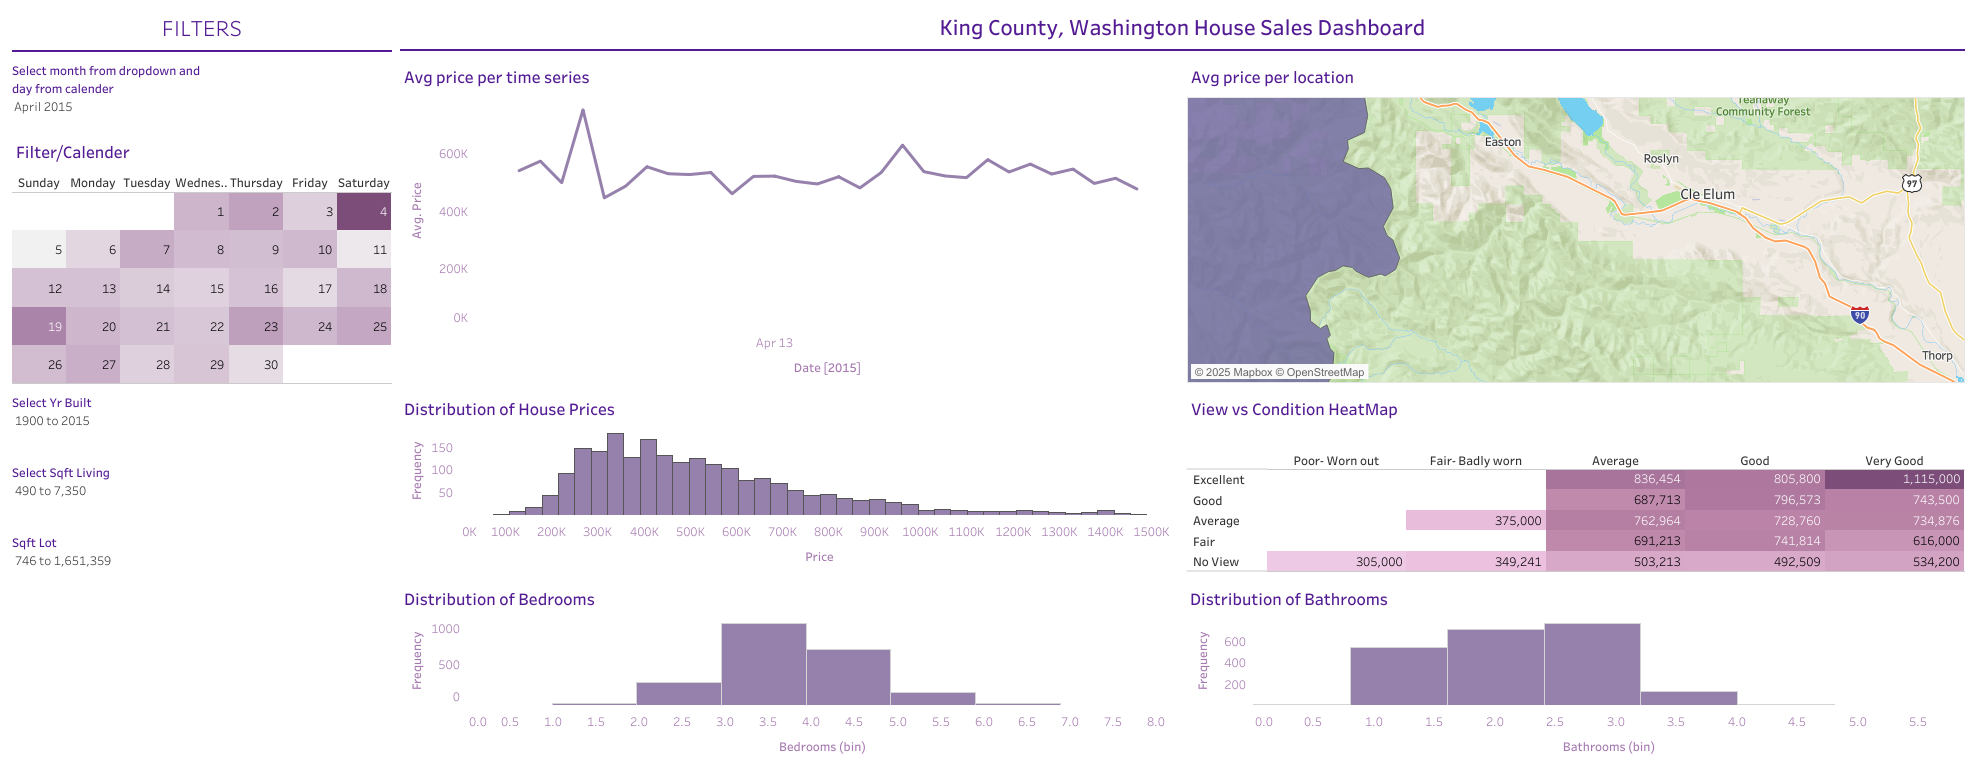

The page's visual inventory and layout, read from the dashboard file:
{"tool":"tableau","page":{"name":"King County HouseSales","canvas":[1000,1000],"units":"permille","ordinal":0},"visuals":[{"type":"text","box":[5.6,9.6,195.7,44.6]},{"type":"text","box":[201.2,9.6,793.2,44.6]},{"type":"blank","box":[5.6,54.2,195.7,12.1]},{"type":"blank","box":[201.2,54.2,793.2,12.1]},{"type":"filter","title":"Filter/Calender","param":"[federated.1qb674v19pro88135flaq18g7b9w].[my:date:ok]","box":[5.6,66.3,195.7,83.1]},{"type":"worksheet","title":"Avg price per time series","mark":"Automatic","rows":["price"],"cols":["date"],"box":[201.4,66.3,396.5,433.7]},{"type":"worksheet","title":"Avg price per location","mark":"Multipolygon","box":[597.9,66.3,396.5,433.7]},{"type":"worksheet","title":"Filter/Calender","mark":"Square","rows":["date"],"cols":["date"],"box":[5.6,149.4,195.7,351.3]},{"type":"worksheet","title":"Price Distribution","mark":"Automatic","rows":["price"],"cols":["Price (bin)"],"box":[201.4,500,396.5,244.6]},{"type":"worksheet","title":"View vs Condition","mark":"Square","rows":["view"],"cols":["condition"],"box":[597.9,500,396.5,244.6]},{"type":"filter","title":"Filter/Calender","param":"[federated.1qb674v19pro88135flaq18g7b9w].[none:yr_built:qk]","box":[5.6,500.7,195.7,61.5]},{"type":"filter","title":"Filter/Calender","param":"[federated.1qb674v19pro88135flaq18g7b9w].[none:sqft_living:qk]","box":[5.6,562.1,195.7,61.5]},{"type":"filter","title":"Filter/Calender","param":"[federated.1qb674v19pro88135flaq18g7b9w].[none:sqft_lot:qk]","box":[5.6,623.6,195.7,61.5]},{"type":"worksheet","title":"Bedroom Districution","mark":"Automatic","rows":["bedrooms"],"cols":["Bedrooms (bin)"],"box":[201.2,745.2,396.6,245.2]},{"type":"worksheet","title":"Bathroom distribution","mark":"Automatic","rows":["bathrooms"],"cols":["Bathrooms (bin)"],"box":[597.8,745.2,396.6,245.2]}]}

Visuals, with their boxes on the dashboard's canvas, which has no fixed pixel size, in thousandths of its width and height (x1, y1, x2, y2). These are canvas units, not pixel positions in the 1976x773 screenshot, which may show the page scaled, cropped or inside an application window:
text: [left=6, top=10, right=201, bottom=54]
text: [left=201, top=10, right=994, bottom=54]
blank: [left=6, top=54, right=201, bottom=66]
blank: [left=201, top=54, right=994, bottom=66]
"Filter/Calender" filter: [left=6, top=66, right=201, bottom=149]
"Avg price per time series" worksheet: [left=201, top=66, right=598, bottom=500]
"Avg price per location" worksheet (Multipolygon marks): [left=598, top=66, right=994, bottom=500]
"Filter/Calender" worksheet (Square marks): [left=6, top=149, right=201, bottom=501]
"Price Distribution" worksheet: [left=201, top=500, right=598, bottom=745]
"View vs Condition" worksheet (Square marks): [left=598, top=500, right=994, bottom=745]
"Filter/Calender" filter: [left=6, top=501, right=201, bottom=562]
"Filter/Calender" filter: [left=6, top=562, right=201, bottom=624]
"Filter/Calender" filter: [left=6, top=624, right=201, bottom=685]
"Bedroom Districution" worksheet: [left=201, top=745, right=598, bottom=990]
"Bathroom distribution" worksheet: [left=598, top=745, right=994, bottom=990]
